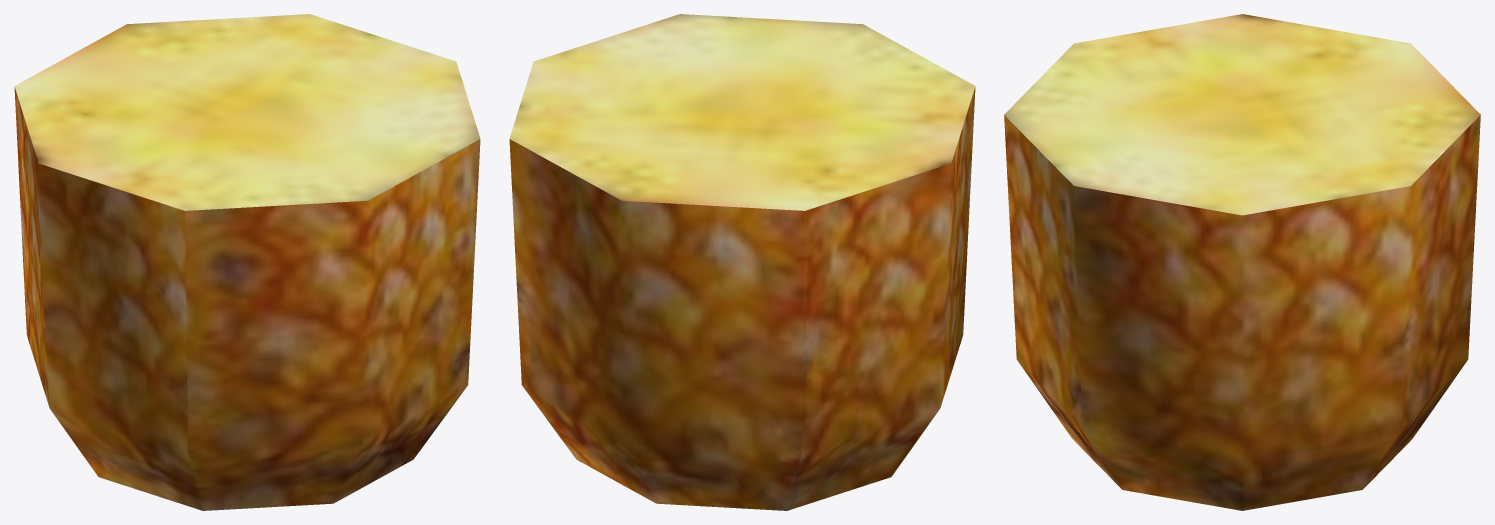
Rendered from Pineapple_03.glb.
3 views of the same model, side by side, from view 1: azimuth 30°, elevation 25°; view 2: azimuth 150°, elevation 25°; view 3: azimuth 270°, elevation 25° (orthographic).
Parts seen in each view (by area): view 1: Pineapple_03; view 2: Pineapple_03; view 3: Pineapple_03.
Part boxes in pixels (x1,y1,x2,y2): Pineapple_03: (14,14,480,510); Pineapple_03: (509,14,975,510); Pineapple_03: (1004,14,1480,510).
Size of the model in its own units: 0.2713 by 0.2037 by 0.2713.
1 material, 1 textured.
